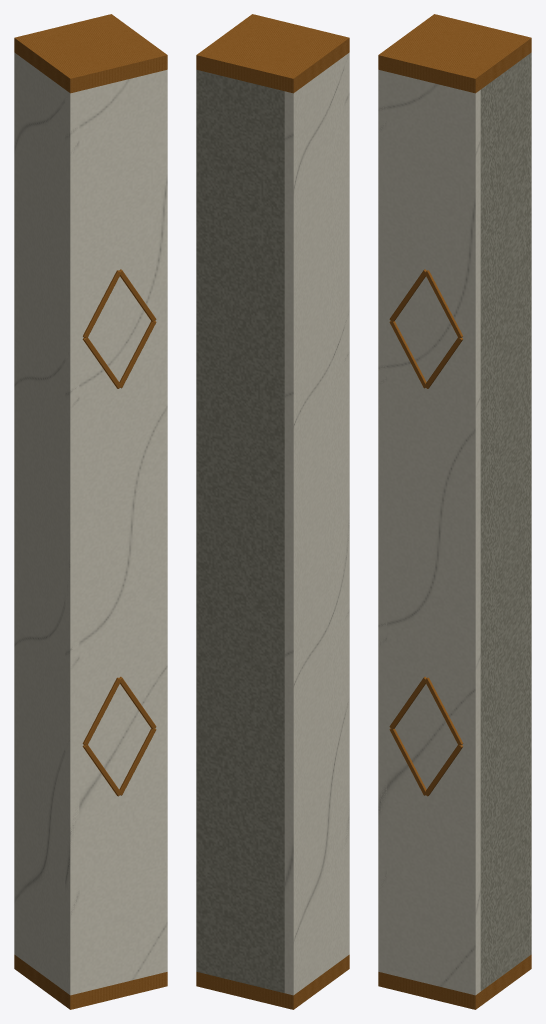
3 views of the same model, side by side, from view 1: azimuth 30°, elevation 25°; view 2: azimuth 150°, elevation 25°; view 3: azimuth 330°, elevation 25° (orthographic).
Parts seen in each view (by area): view 1: Mitered marble corner facing, Mitered marble corner facing.001, Corner bronze seat.001, Corner bronze seat, External diamond relief.003, External diamond relief.007, External diamond relief.005, External diamond relief.001; view 2: Corner bearing return, Mitered marble corner facing.001, Corner bronze seat.001, Mitered marble corner facing, Corner bronze seat; view 3: Mitered marble corner facing, Corner bearing return, Corner bronze seat.001, Mitered marble corner facing.001, Corner bronze seat, External diamond relief, External diamond relief.004, External diamond relief.006, External diamond relief.002.
Boxes of the visible parts, <box> form: Mitered marble corner facing: <box>65,69,167,995</box>; Mitered marble corner facing.001: <box>14,52,79,994</box>; Corner bronze seat.001: <box>14,14,167,93</box>; Corner bronze seat: <box>14,954,167,1009</box>; External diamond relief.003: <box>82,677,121,745</box>; External diamond relief.007: <box>83,270,120,337</box>; External diamond relief.005: <box>119,321,156,388</box>; External diamond relief.001: <box>119,728,156,795</box>; Corner bearing return: <box>196,69,284,992</box>; Mitered marble corner facing.001: <box>284,53,349,995</box>; Corner bronze seat.001: <box>196,14,349,93</box>; Mitered marble corner facing: <box>344,52,349,956</box>; Corner bronze seat: <box>196,954,349,1009</box>; Mitered marble corner facing: <box>378,70,480,995</box>; Corner bearing return: <box>480,52,531,991</box>; Corner bronze seat.001: <box>378,14,531,93</box>; Mitered marble corner facing.001: <box>378,69,386,973</box>; Corner bronze seat: <box>378,954,531,1009</box>; External diamond relief: <box>424,677,463,745</box>; External diamond relief.004: <box>425,270,462,337</box>; External diamond relief.006: <box>389,321,426,388</box>; External diamond relief.002: <box>389,728,426,795</box>.
Size of the model in its own units: 0.35 by 3.2 by 0.358.
3 materials, 3 textured.
